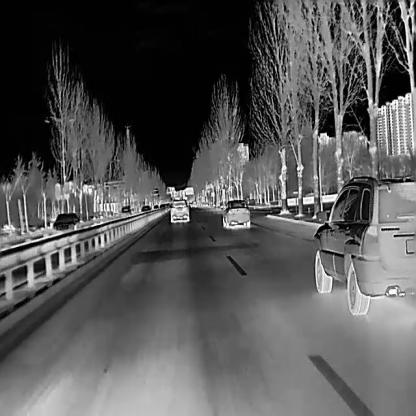car: (313, 172, 415, 316), (221, 198, 250, 228), (52, 210, 80, 238), (169, 196, 189, 221), (121, 205, 133, 221), (140, 204, 150, 214), (152, 203, 158, 212), (158, 202, 164, 210), (190, 201, 196, 207)
